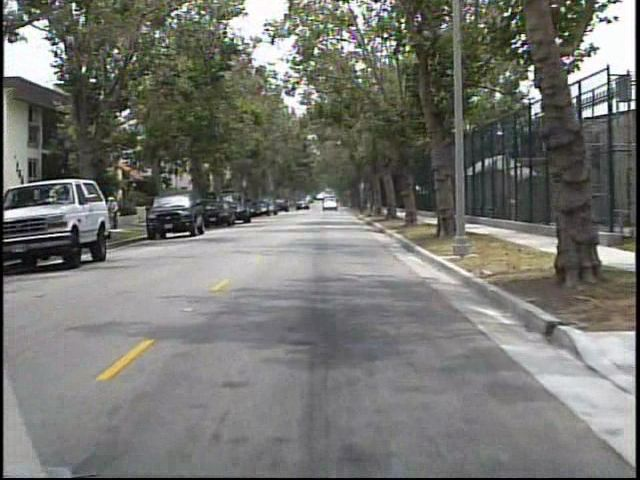person: (100, 190, 121, 235)
